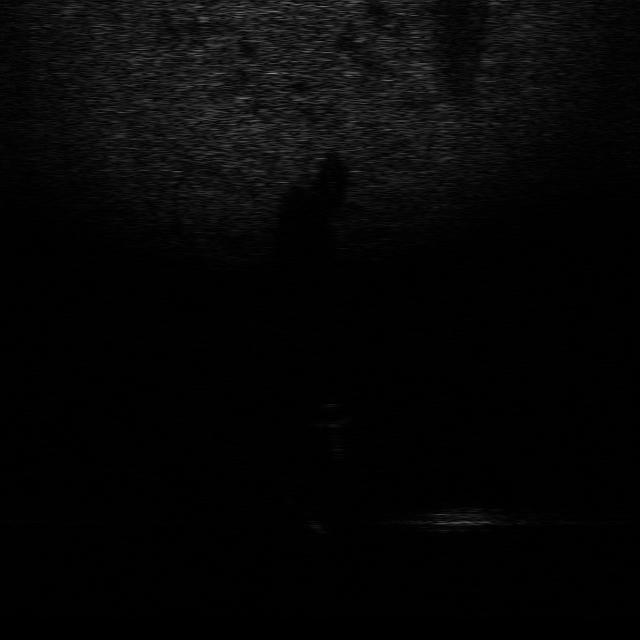ball: (302, 400, 356, 431)
metal bucket: (406, 498, 510, 535)
tyre: (284, 494, 348, 538)
